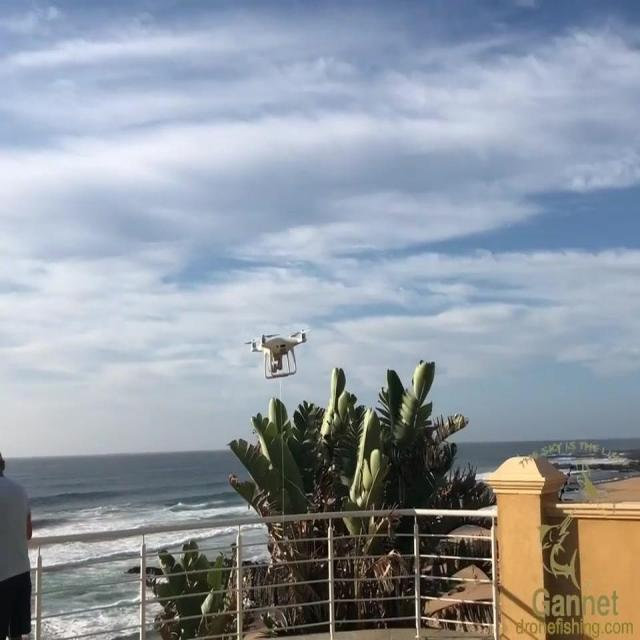UAV: (244, 328, 309, 380)
